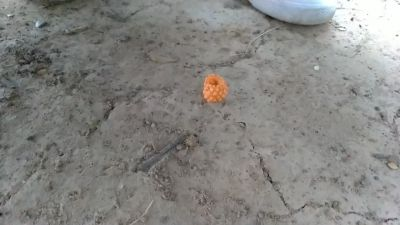eggs: (204, 70, 231, 106)
